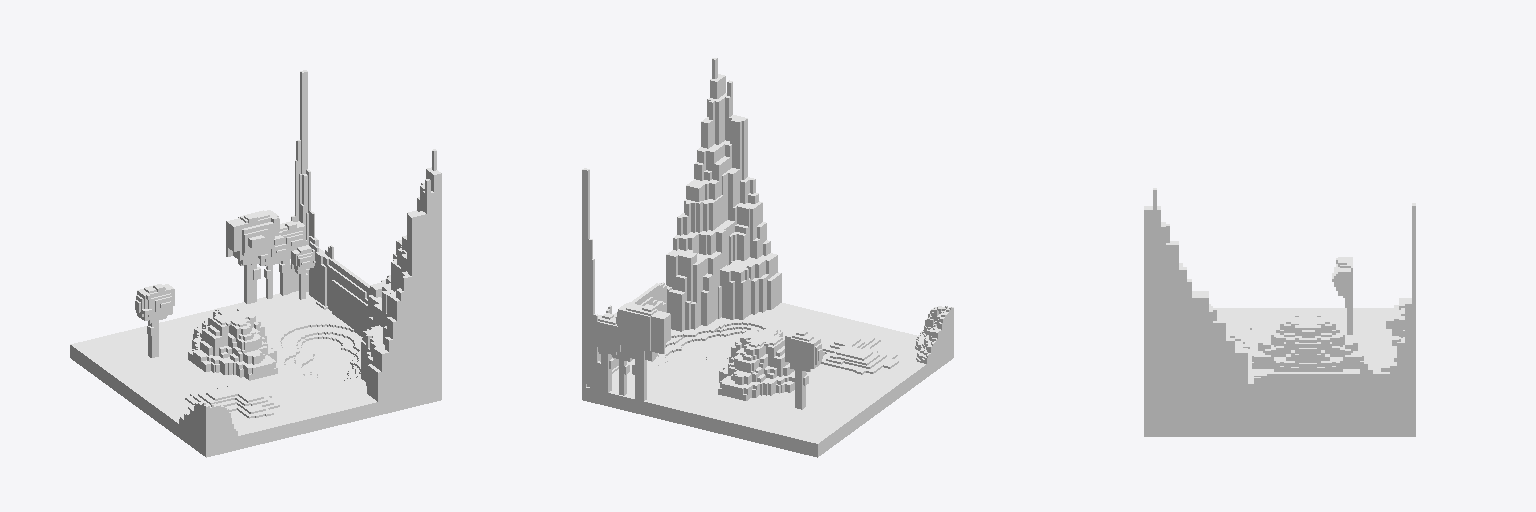
File: gorkamap3.obj
The picture shows the model from 3 angles: view 1: azimuth 30°, elevation 25°; view 2: azimuth 150°, elevation 25°; view 3: azimuth 270°, elevation 25°; orthographic projection.
Parts seen in each view (by area): view 1: object 1; view 2: object 1; view 3: object 1.
Part boxes in pixels (bbox=[...]): object 1: bbox=[70, 70, 441, 457]; object 1: bbox=[582, 58, 953, 457]; object 1: bbox=[1144, 188, 1415, 436].
Bounding box in the file's own units: 12.6 × 12.6 × 12.6.